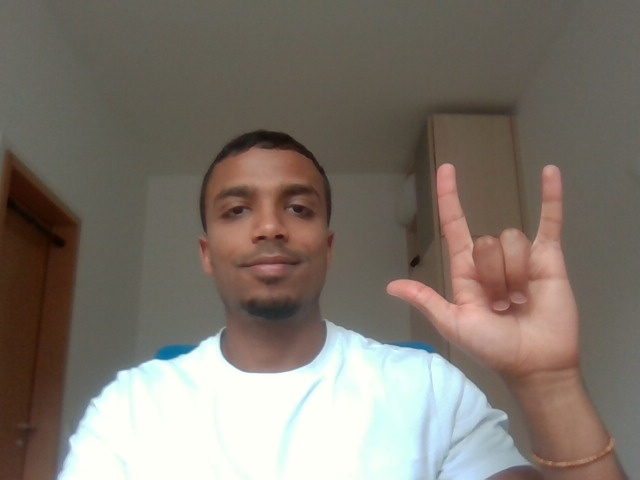absolutely: (383, 162, 617, 385)
